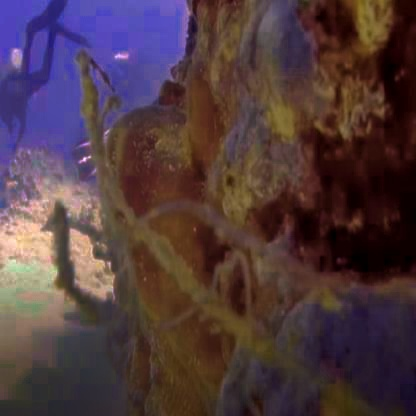net: (70, 91, 218, 326)
